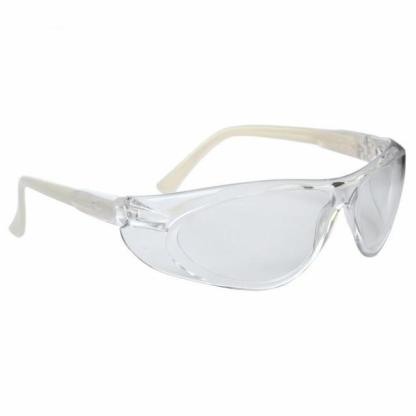oculos: (2, 124, 413, 293)
